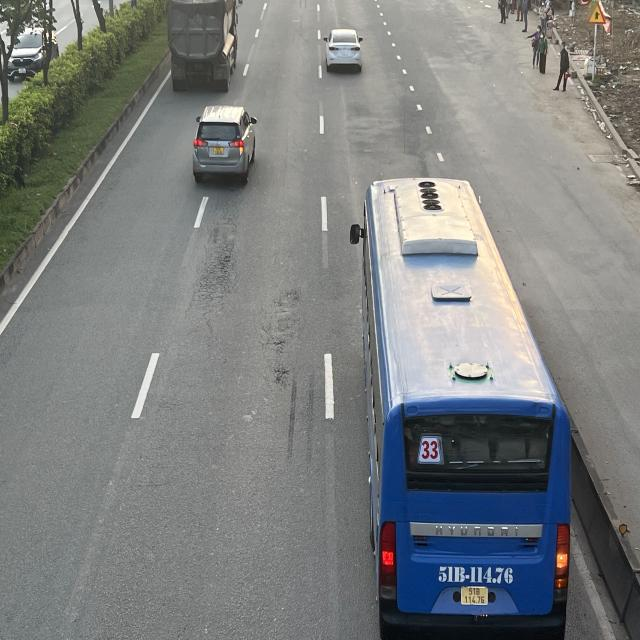car: (191, 106, 258, 184), (325, 30, 366, 74)
coach: (353, 174, 571, 634)
container: (168, 2, 242, 94)
